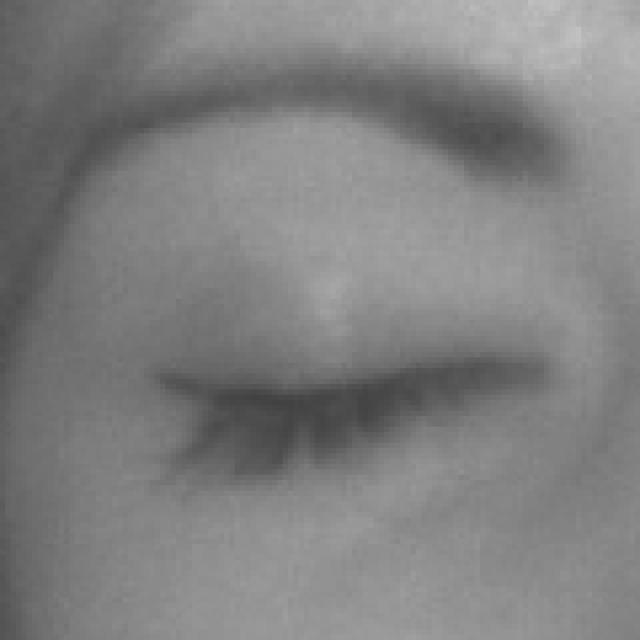Eyeclosed: (154, 228, 534, 588)
